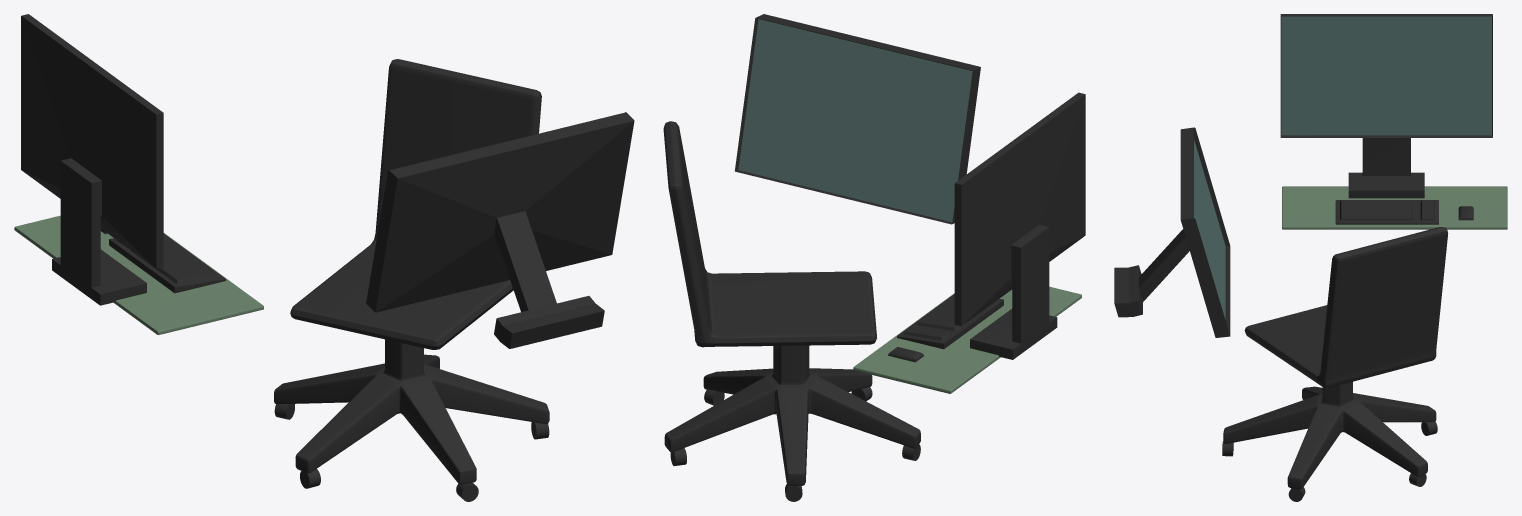
File: props.fbx
3 renders of one model, left to right at view 1: azimuth 30°, elevation 25°; view 2: azimuth 150°, elevation 25°; view 3: azimuth 270°, elevation 25°, orthographic. The views are drawn at different scales.
Visible parts, largest first — view 1: drawing_tablet, chair, monitor, deskmat, keyboard; view 2: drawing_tablet, chair, monitor, deskmat, keyboard; view 3: monitor, chair, drawing_tablet, deskmat, keyboard.
Boxes of the visible parts, x1,y1,x2,y2 form: drawing_tablet: (366,112,634,348); chair: (274,59,549,501); monitor: (21,14,163,305); deskmat: (14,215,263,334); keyboard: (109,233,225,293); drawing_tablet: (735,14,980,224); chair: (663,121,920,501); monitor: (954,92,1085,359); deskmat: (853,286,1081,393); keyboard: (897,294,1003,349); monitor: (1280,14,1492,198); chair: (1222,227,1448,501); drawing_tablet: (1114,127,1230,337); deskmat: (1282,186,1507,229); keyboard: (1335,200,1438,224).
Bounding box in the file's own units: 95.5 × 89.81 × 95.42.
